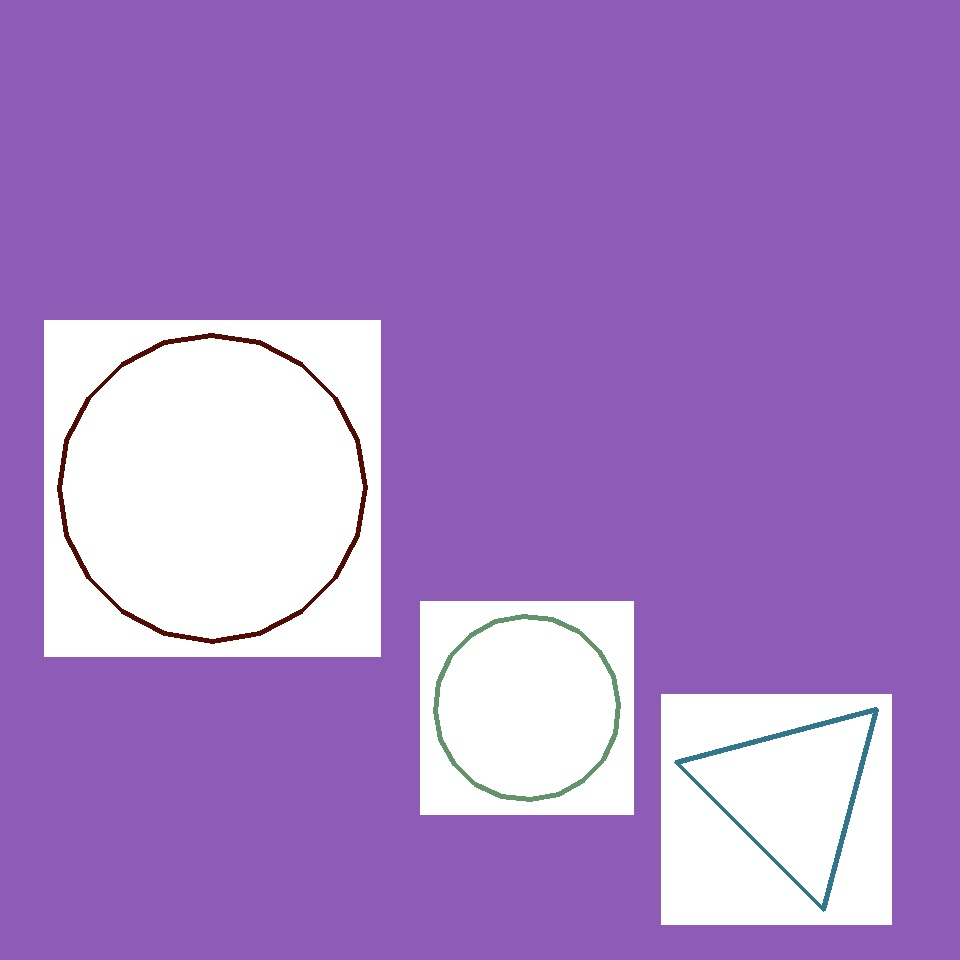circle: (692, 694, 892, 894), (782, 694, 926, 862)
square: (528, 469, 830, 772), (246, 493, 474, 722)
triangle: (370, 442, 742, 815), (59, 335, 365, 641), (234, 101, 536, 404), (436, 616, 618, 800), (453, 306, 624, 478)
